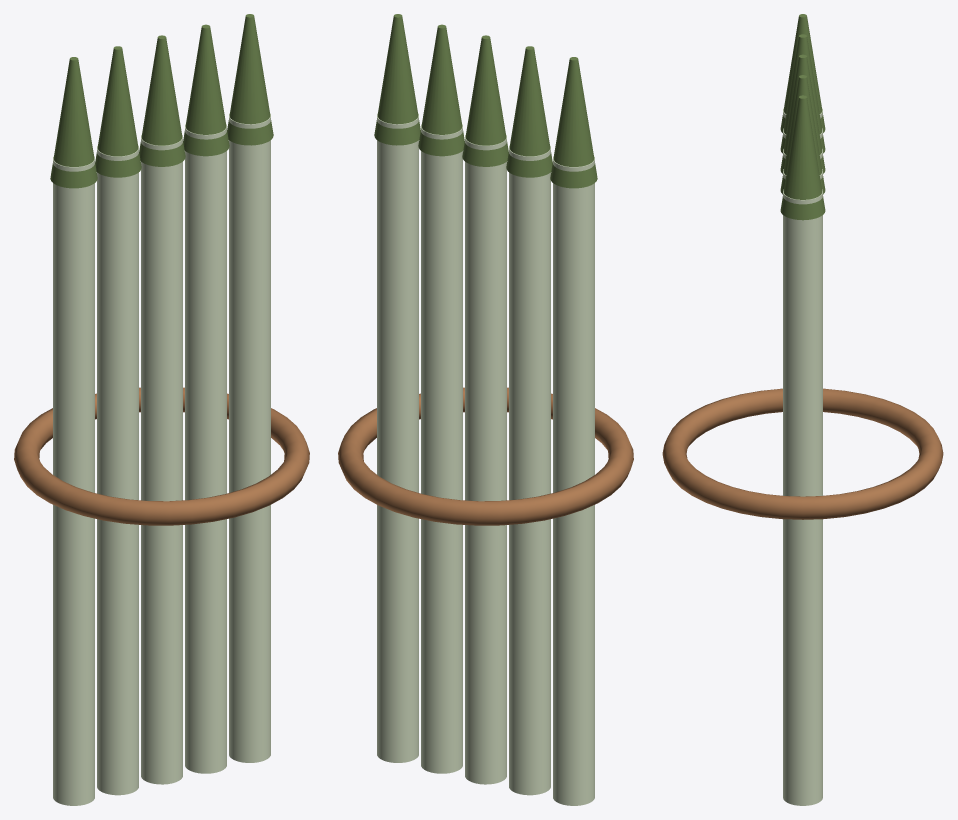
File: wp-asperges.glb
3 views of the same model, side by side, from view 1: azimuth 30°, elevation 25°; view 2: azimuth 150°, elevation 25°; view 3: azimuth 270°, elevation 25° (orthographic). The views are drawn at different scales.
Visible parts, largest first — view 1: wp-asperges; view 2: wp-asperges; view 3: wp-asperges.
Part boxes in pixels (x1,y1,x2,y2): wp-asperges: (14,14,309,805); wp-asperges: (338,14,633,805); wp-asperges: (662,14,943,805).
Size of the model in its own units: 0.08 by 0.22 by 0.08.
